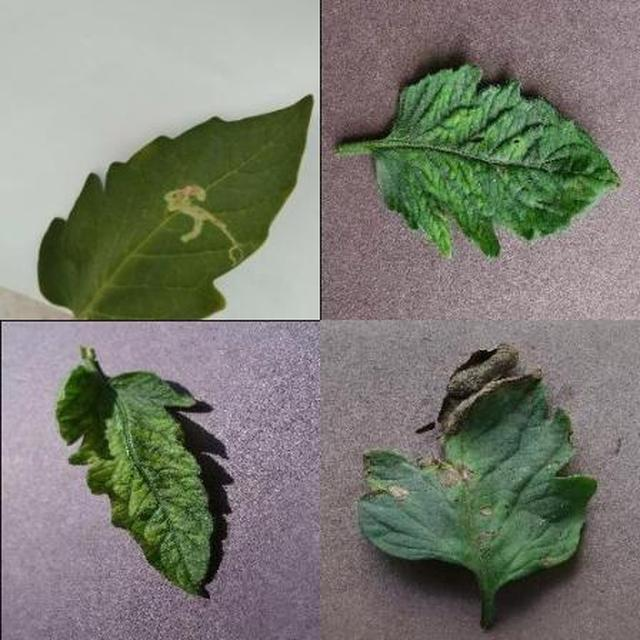Leaf Miner: (190, 233, 640, 640)
